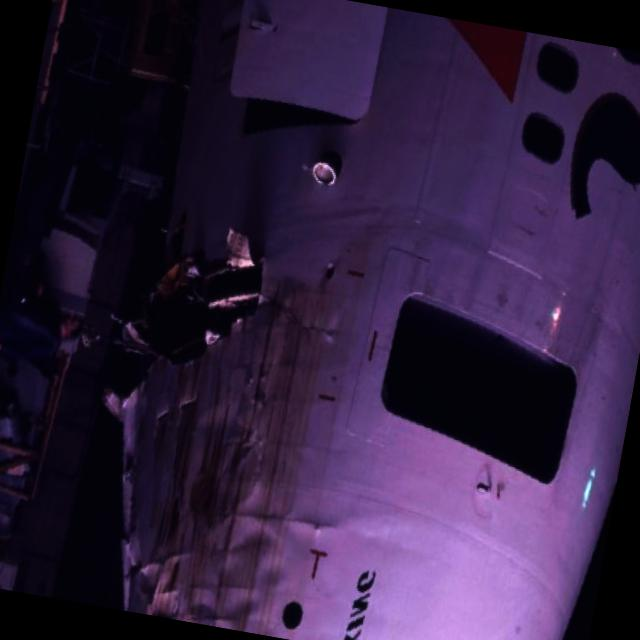crack: (250, 286, 356, 352)
dent: (164, 412, 306, 626), (341, 506, 415, 565)
